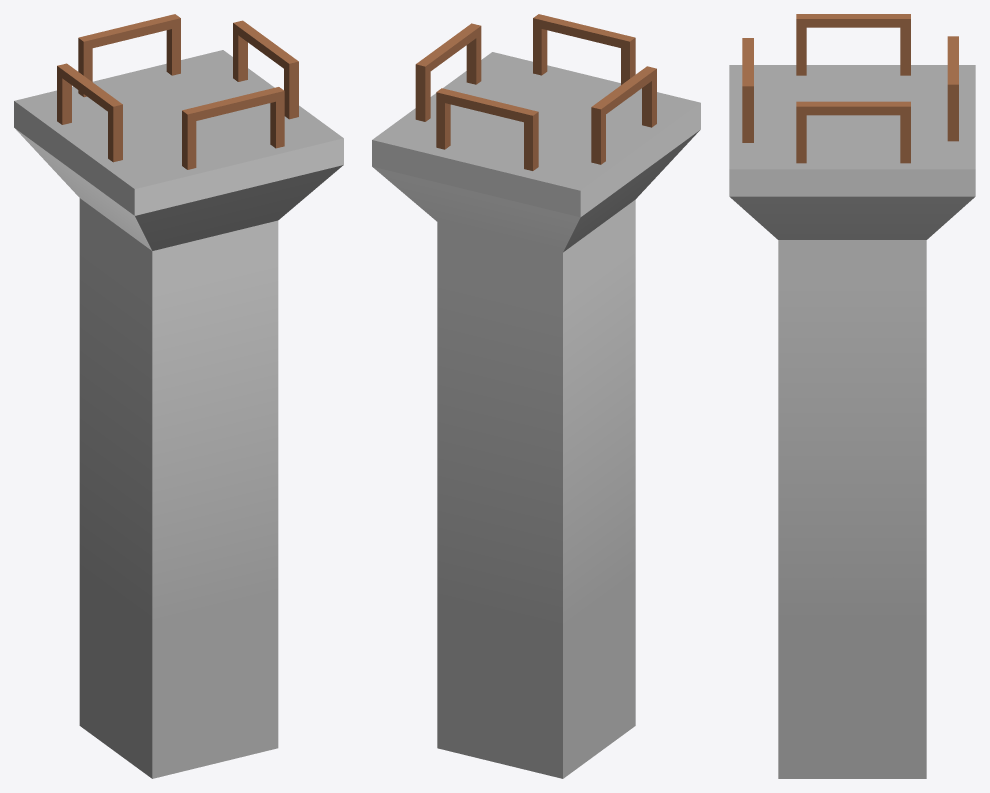
File: tower.fbx
The picture shows the model from 3 angles, left to right: view 1: azimuth 30°, elevation 25°; view 2: azimuth 150°, elevation 25°; view 3: azimuth 270°, elevation 25°; orthographic projection. The views are drawn at different scales.
Visible parts, largest first — view 1: tower; view 2: tower; view 3: tower.
Part boxes in pixels (left/top/right/bottom): tower: left=14, top=14, right=343, bottom=778; tower: left=372, top=14, right=700, bottom=778; tower: left=729, top=14, right=975, bottom=778.
Bounding box in the file's own units: 1.66 × 5.1 × 1.66.
